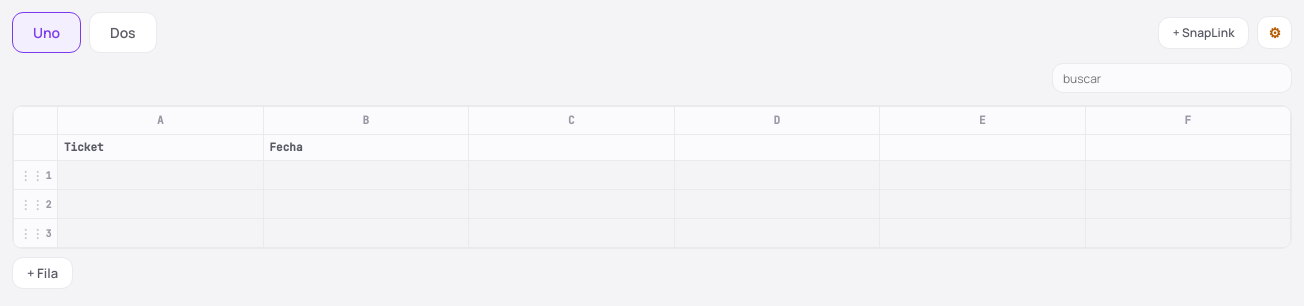
Test: TrackerGrid — jira mode (extracted Sprint Tracker behavior) › switching tab shows that tab headers
Click the button "Dos" at [123, 32], box [89, 12, 157, 53]
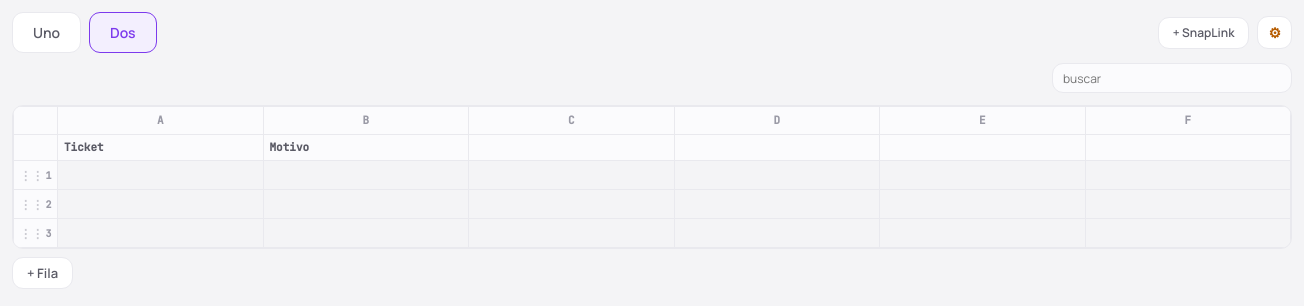
Now the column heading "Motivo" is shown, box [263, 134, 468, 160]
Now the column heading "Fecha" is gone
